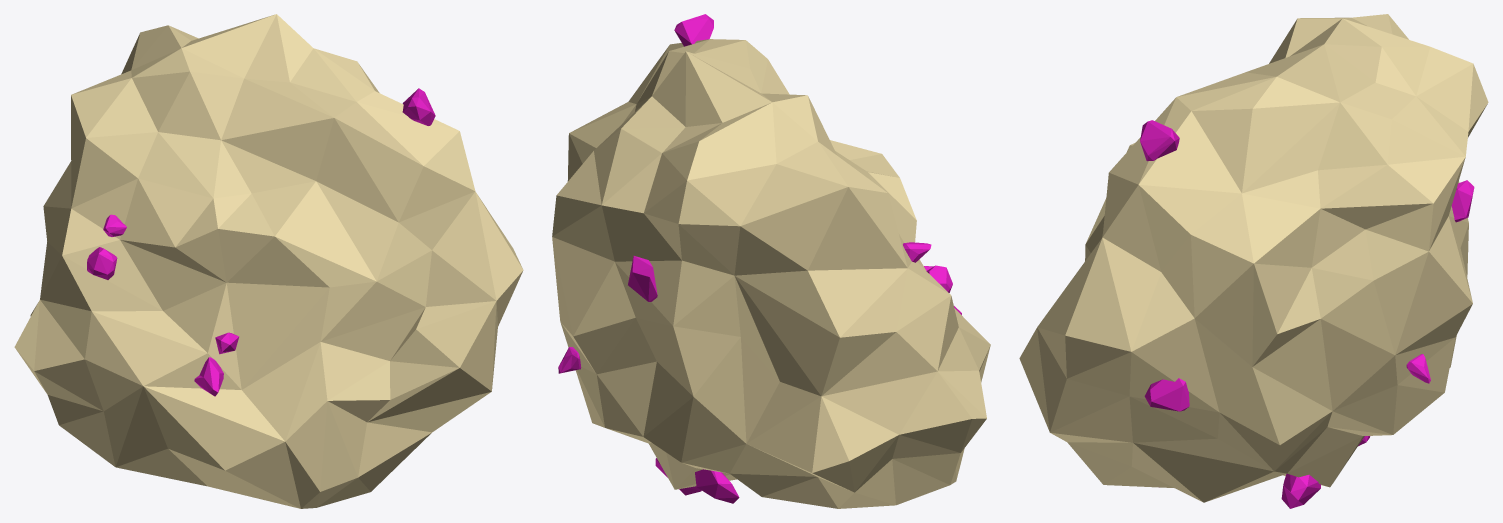
The model's file is CrystalOre (18).fbx.
3 views of the same model, side by side, from view 1: azimuth 30°, elevation 25°; view 2: azimuth 150°, elevation 25°; view 3: azimuth 270°, elevation 25° (orthographic). The views are drawn at different scales.
Visible parts, largest first — view 1: Asteroid238; view 2: Asteroid238; view 3: Asteroid238.
Part boxes in pixels (bbox=[...]): Asteroid238: bbox=[14, 14, 523, 508]; Asteroid238: bbox=[552, 14, 990, 508]; Asteroid238: bbox=[1019, 14, 1488, 508].
Size of the model in its own units: 441 by 427 by 396.
